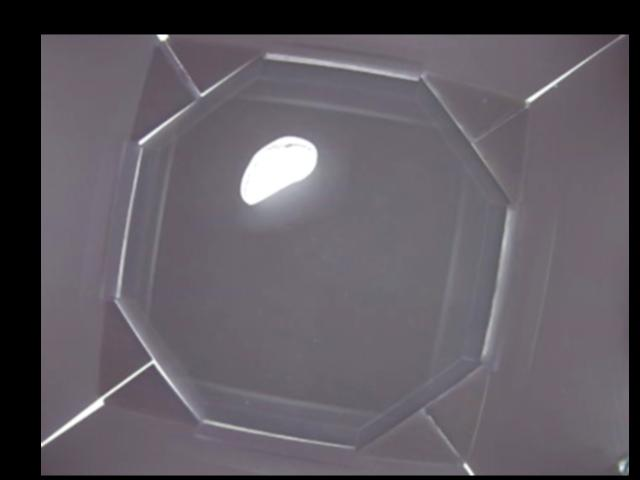Pebble: (238, 135, 317, 204)
